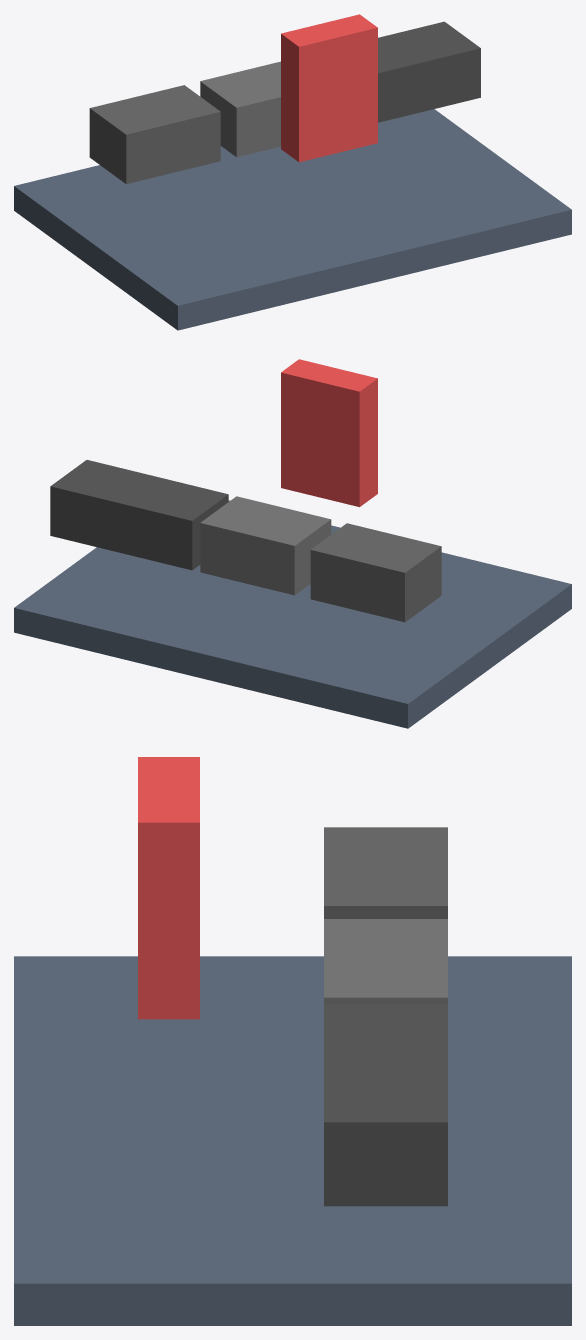
File: applied_digital_electronics.glb
3 renders of one model, top to bottom at view 1: azimuth 30°, elevation 25°; view 2: azimuth 150°, elevation 25°; view 3: azimuth 270°, elevation 25°, orthographic. The views are drawn at different scales.
Visible parts, largest first — view 1: ElectronicsTrainerBase, SevenSegmentDisplayModule, DIP8OpAmpIC, JKFlipFlopCounterIC, NE555TimerOscillator; view 2: ElectronicsTrainerBase, JKFlipFlopCounterIC, SevenSegmentDisplayModule, DIP8OpAmpIC, NE555TimerOscillator; view 3: ElectronicsTrainerBase, JKFlipFlopCounterIC, SevenSegmentDisplayModule, DIP8OpAmpIC, NE555TimerOscillator.
Part boxes in pixels (box(x1,y1,x2,y2)): ElectronicsTrainerBase: box(14, 109, 571, 330); SevenSegmentDisplayModule: box(281, 14, 377, 162); DIP8OpAmpIC: box(89, 85, 220, 184); JKFlipFlopCounterIC: box(378, 21, 480, 122); NE555TimerOscillator: box(200, 61, 280, 157); ElectronicsTrainerBase: box(14, 500, 571, 728); JKFlipFlopCounterIC: box(50, 460, 228, 570); SevenSegmentDisplayModule: box(281, 359, 377, 507); DIP8OpAmpIC: box(310, 523, 441, 622); NE555TimerOscillator: box(200, 496, 331, 595); ElectronicsTrainerBase: box(14, 956, 571, 1325); JKFlipFlopCounterIC: box(324, 1004, 447, 1206); SevenSegmentDisplayModule: box(138, 757, 199, 1019); DIP8OpAmpIC: box(324, 827, 447, 918); NE555TimerOscillator: box(324, 919, 447, 1004).
Size of the model in its own units: 2.5 by 1.32 by 1.8.
